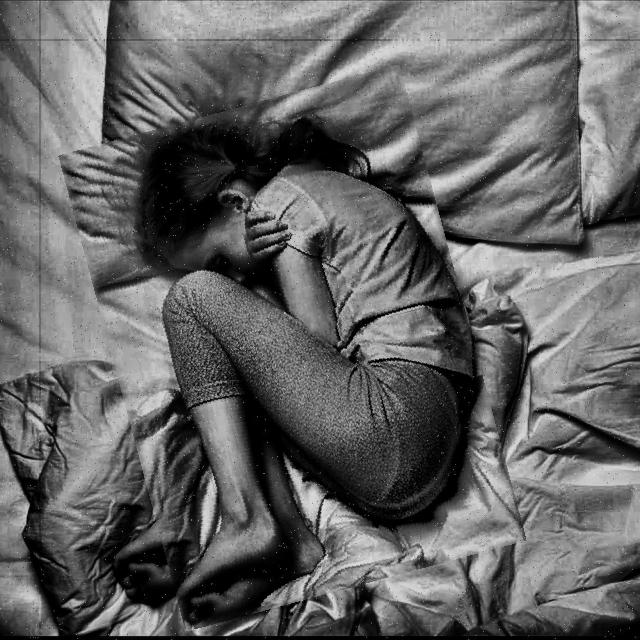Not_Supine: (135, 113, 473, 628)
